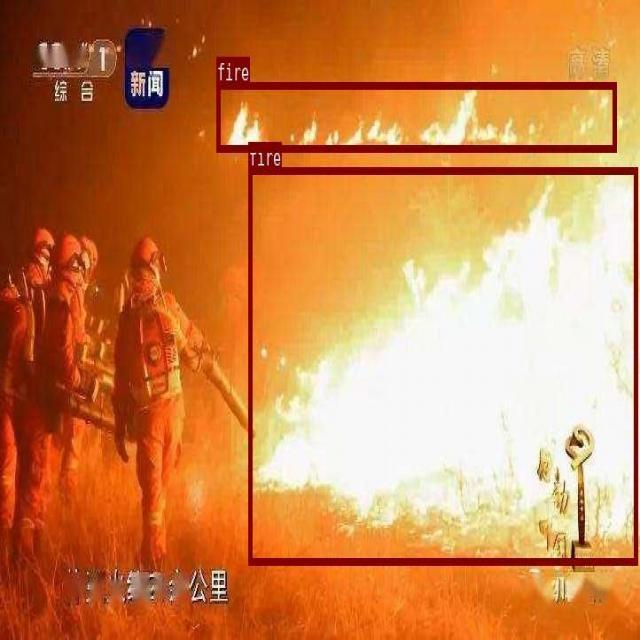fire: (248, 166, 637, 563), (216, 81, 615, 151)
